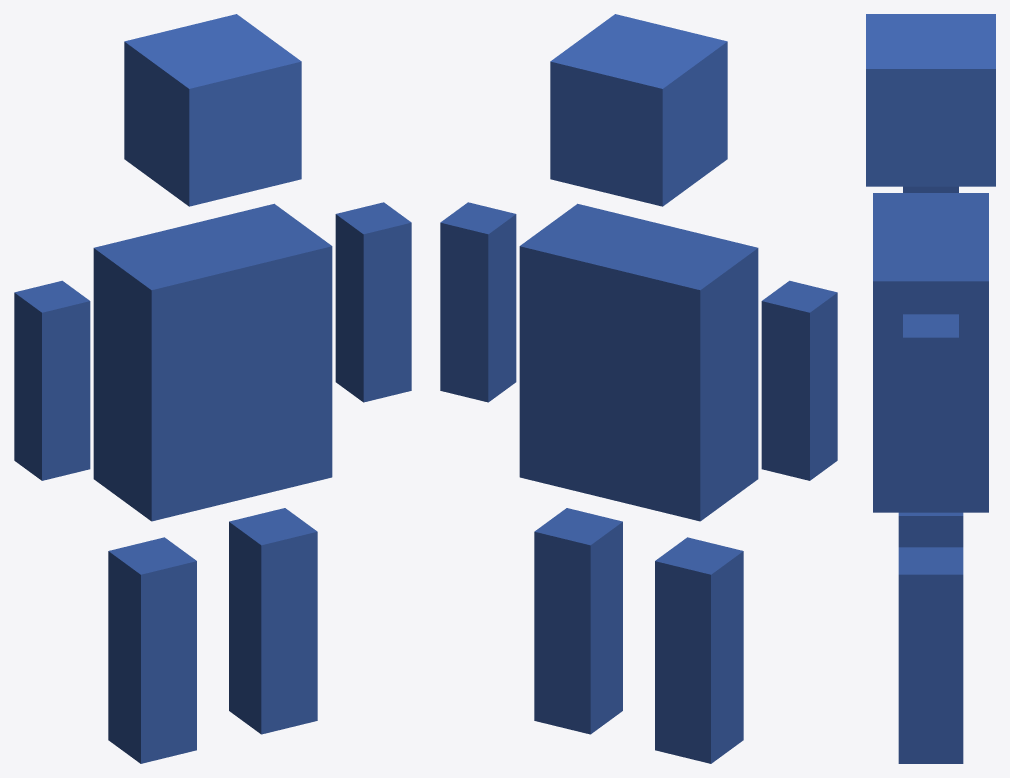
File: tribunal_hunter.obj
The picture shows the model from 3 angles, left to right: view 1: azimuth 30°, elevation 25°; view 2: azimuth 150°, elevation 25°; view 3: azimuth 270°, elevation 25°; orthographic projection.
Visible parts, largest first — view 1: torso, head, leg_r, leg_l, arm_r, arm_l; view 2: torso, head, leg_r, leg_l, arm_r, arm_l; view 3: torso, head, leg_r, arm_r, leg_l, arm_l.
Boxes of the visible parts, left/top/right/bottom form: torso: left=93, top=203, right=332, bottom=521; head: left=124, top=14, right=301, bottom=206; leg_r: left=229, top=508, right=317, bottom=734; leg_l: left=108, top=537, right=196, bottom=763; arm_r: left=335, top=202, right=411, bottom=402; arm_l: left=14, top=280, right=90, bottom=480; torso: left=519, top=203, right=758, bottom=521; head: left=550, top=14, right=727, bottom=206; leg_r: left=534, top=508, right=622, bottom=734; leg_l: left=655, top=537, right=743, bottom=763; arm_r: left=440, top=202, right=516, bottom=402; arm_l: left=761, top=280, right=837, bottom=480; torso: left=873, top=193, right=988, bottom=512; head: left=866, top=14, right=995, bottom=186; leg_r: left=898, top=547, right=963, bottom=763; arm_r: left=903, top=314, right=958, bottom=505; leg_l: left=898, top=512, right=963, bottom=547; arm_l: left=903, top=186, right=958, bottom=192.
Bounding box in the file's own units: 0.92 × 1.62 × 0.28.
